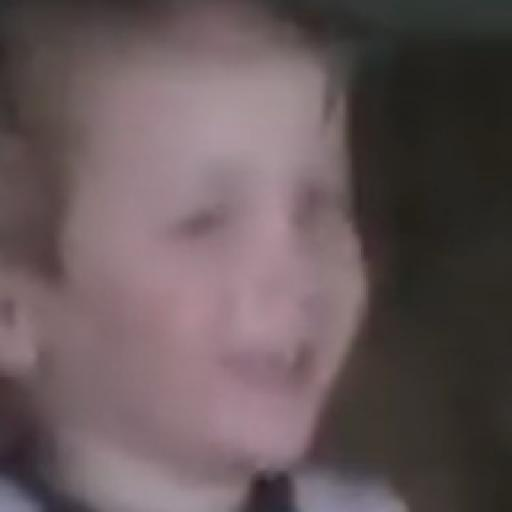Autism: (0, 2, 393, 455)
